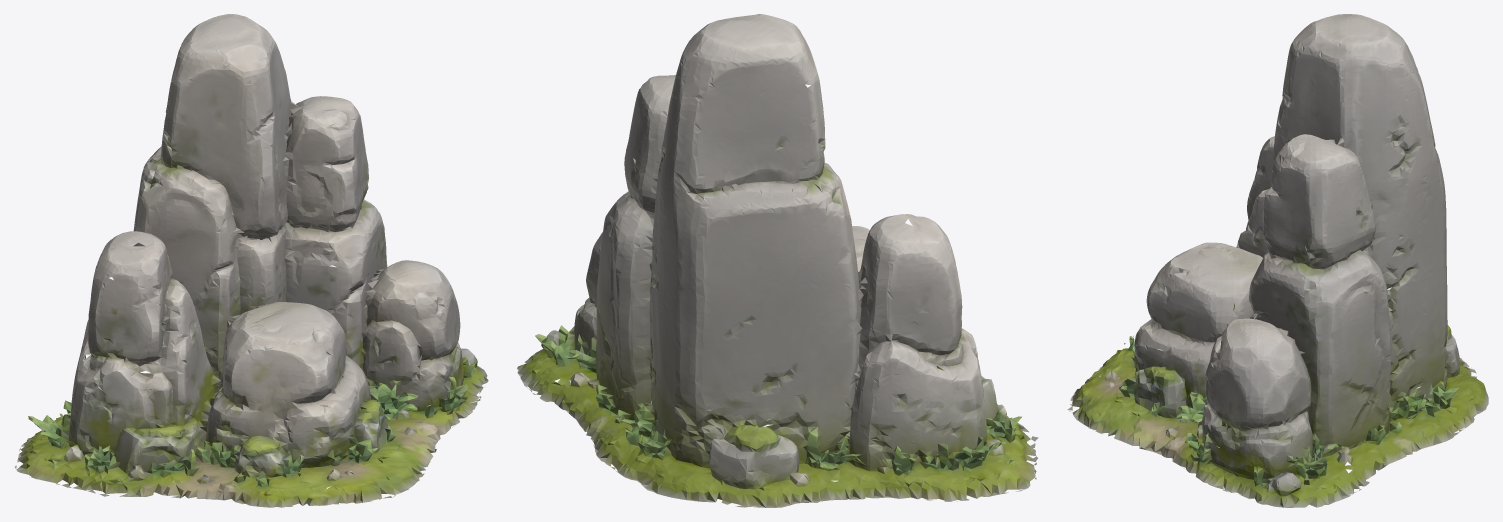
File: world_rock_cluster_lod0.glb
3 views of the same model, side by side, from view 1: azimuth 30°, elevation 25°; view 2: azimuth 150°, elevation 25°; view 3: azimuth 270°, elevation 25° (orthographic). The views are drawn at different scales.
Parts seen in each view (by area): view 1: world; view 2: world; view 3: world.
Boxes of the visible parts, <box> form: world: <box>15,14,488,507</box>; world: <box>517,14,1038,507</box>; world: <box>1067,14,1488,507</box>.
Size of the model in its own units: 1.89 by 1.48 by 1.52.
